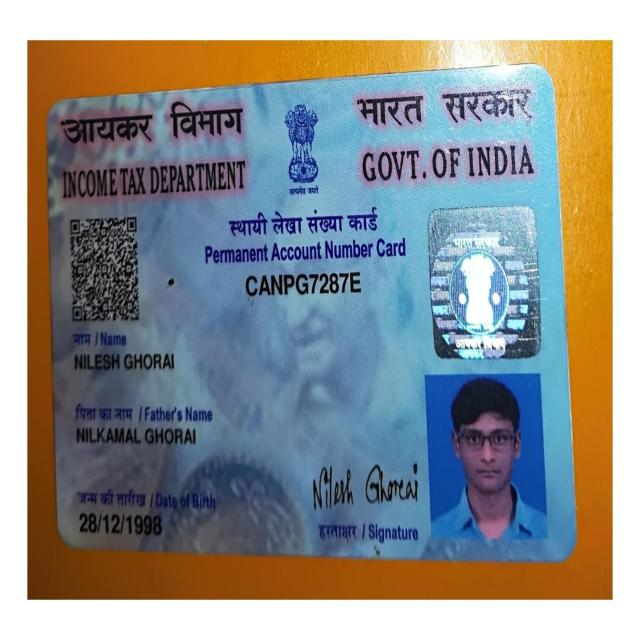pan_card: (48, 72, 572, 558)
